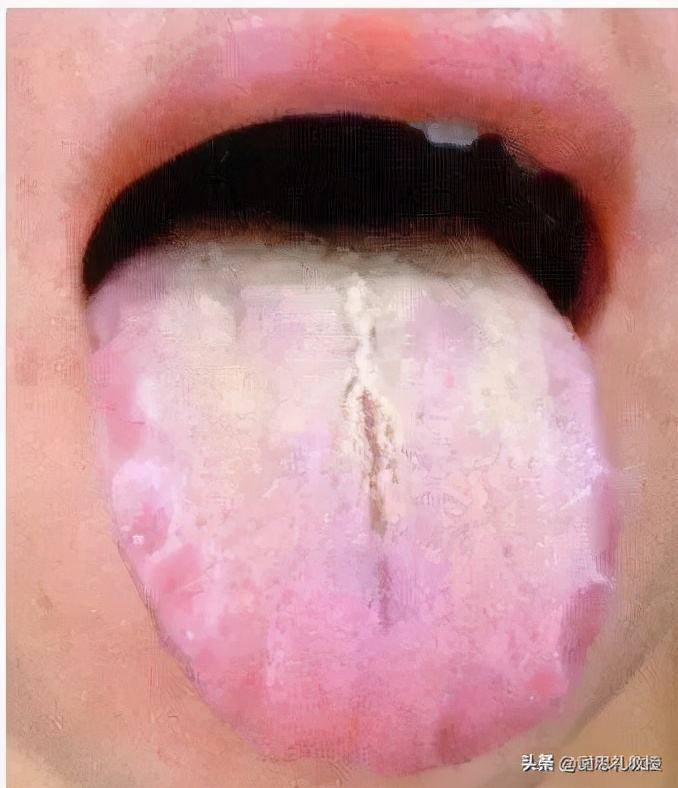chihenshe: (89, 376, 209, 665), (556, 471, 616, 712)
huangtaishe: (89, 223, 618, 777)
liewenshe: (338, 378, 406, 635)
zishe: (88, 223, 617, 777)
